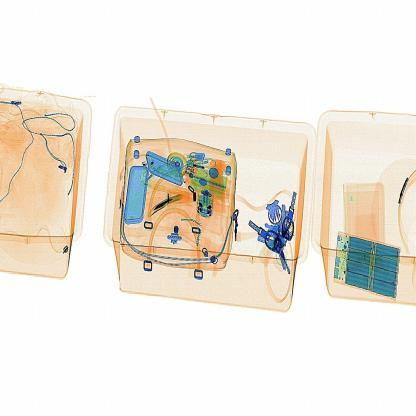wrench: (138, 188, 205, 225)
